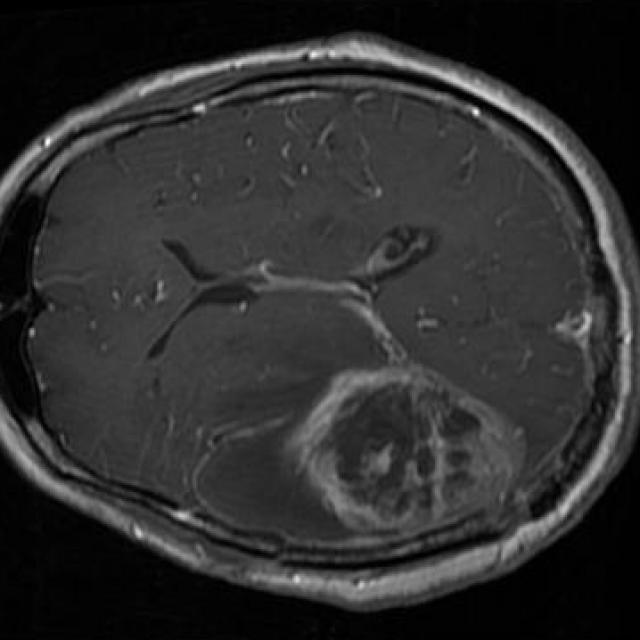glioma: (283, 364, 524, 537)
